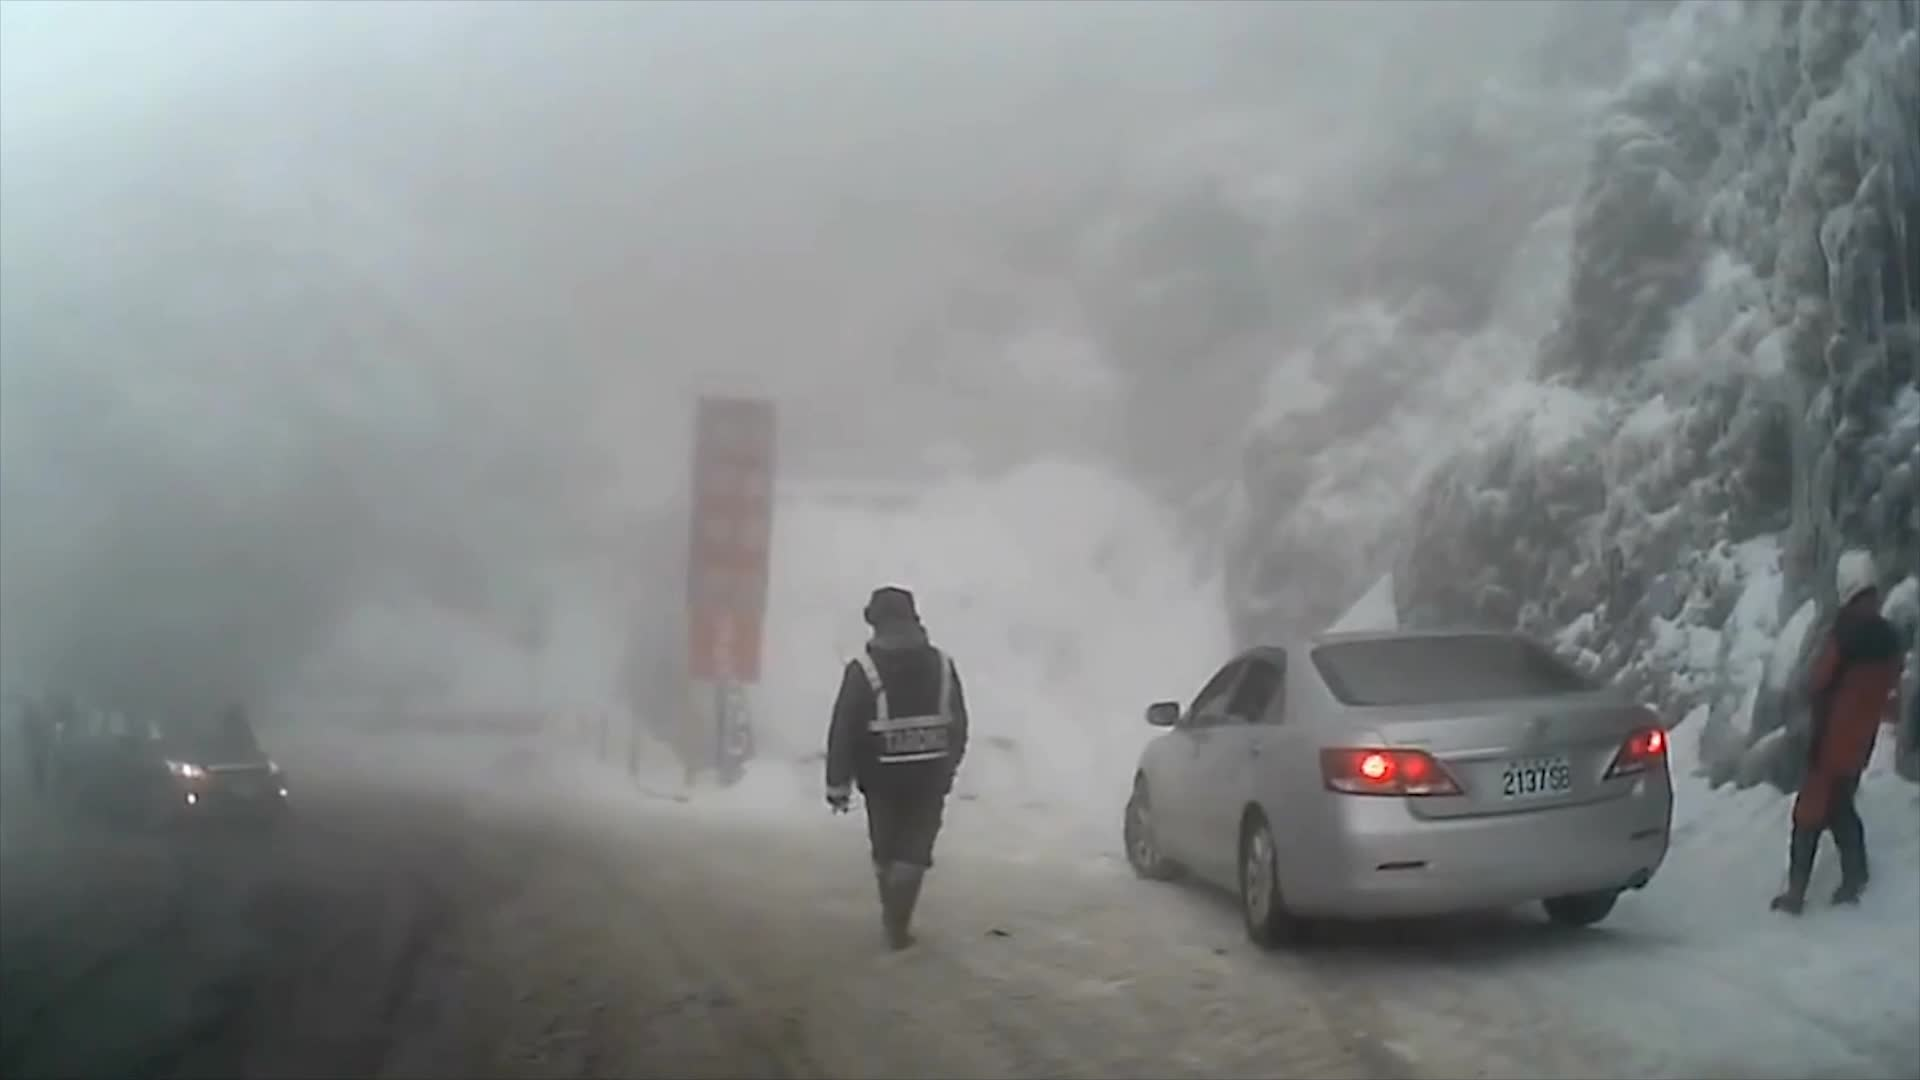pedestrian: (830, 587, 973, 951), (1777, 543, 1903, 913)
vehicle: (1123, 628, 1664, 942), (47, 697, 295, 838)
